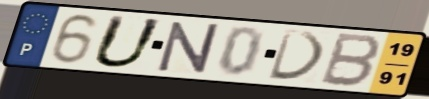0: (217, 26, 267, 79)
6: (48, 12, 102, 66)
B: (317, 31, 386, 89)
D: (266, 28, 329, 83)
N: (156, 21, 222, 75)
U: (88, 13, 167, 70)
